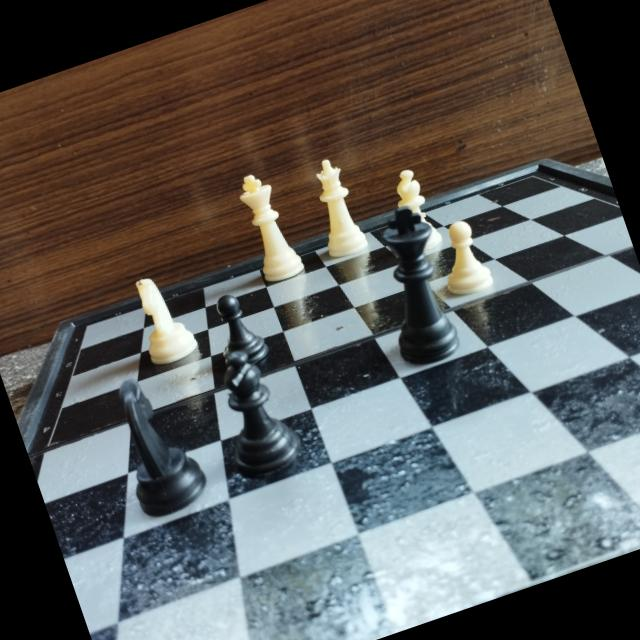Black Bishop: (198, 336, 310, 488)
Black King: (352, 194, 478, 376)
Black Knight: (94, 359, 216, 525)
Black Pawn: (198, 282, 272, 374)
White Bishop: (386, 160, 446, 254)
White King: (227, 162, 310, 290)
White Knight: (118, 261, 205, 375)
White Pawn: (426, 210, 502, 306)
White Queen: (297, 152, 374, 266)
